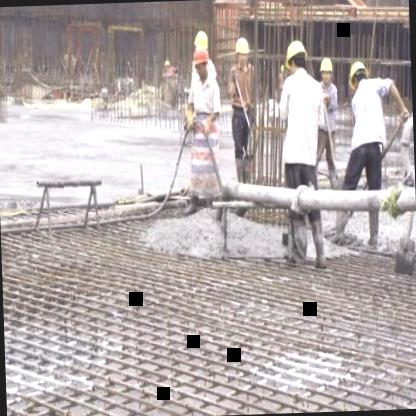helmet: (284, 38, 308, 79), (346, 57, 370, 92), (231, 36, 254, 66), (192, 46, 211, 79), (193, 31, 212, 58), (318, 55, 334, 85)
